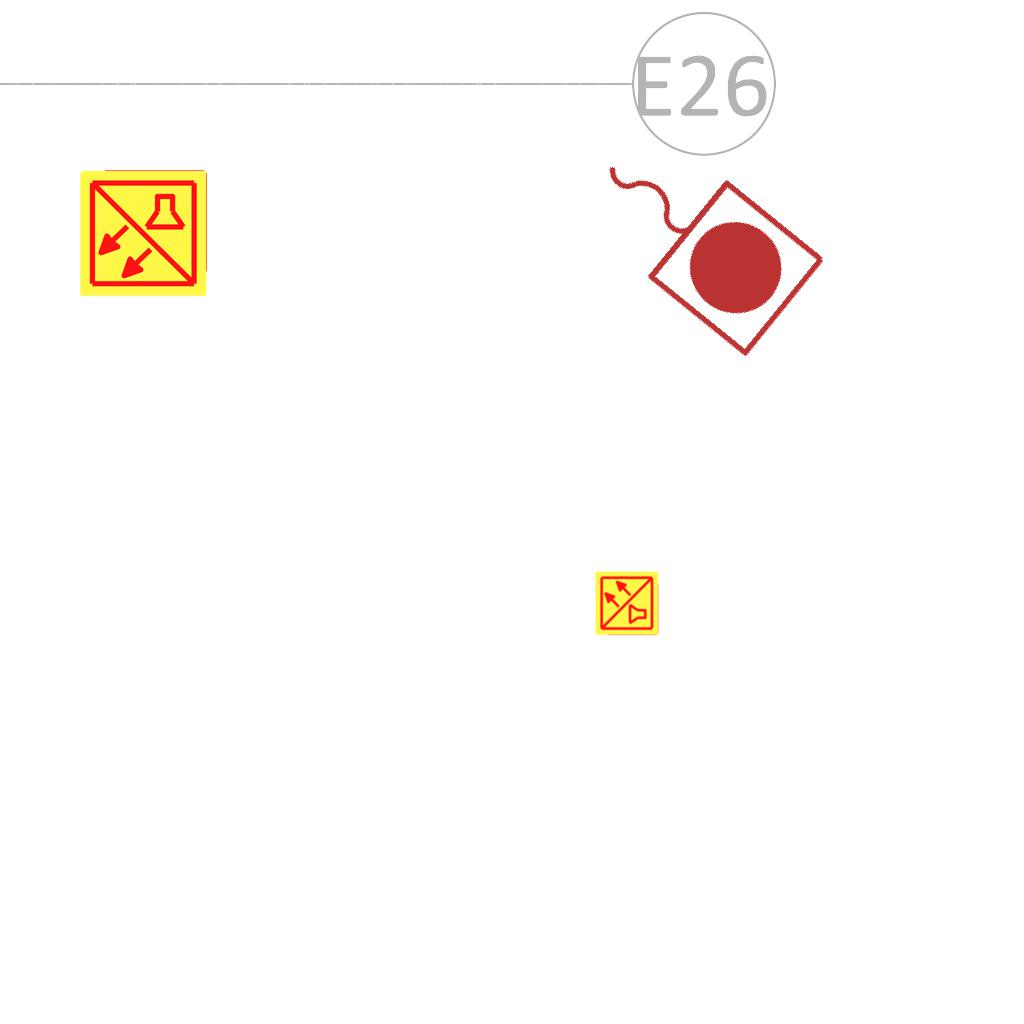OKW_Multisensormelder_(Kombination_optischer_Rauch-Kahlenmonoxid_Waerme-Melder): (77, 167, 209, 299), (594, 570, 660, 636)
Zugtaster: (557, 102, 839, 368)
